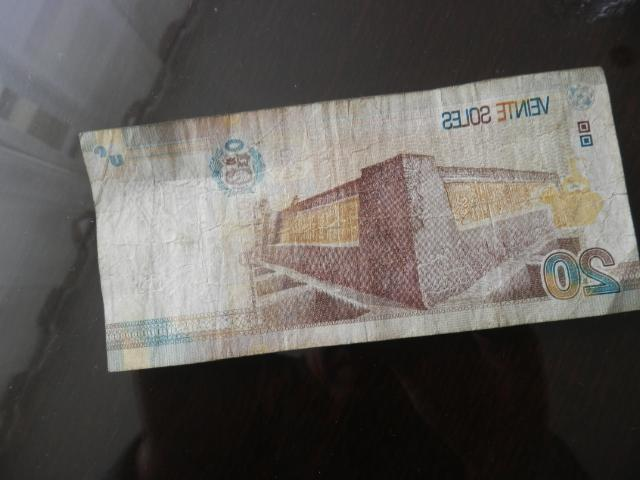B20: (78, 67, 640, 372)
